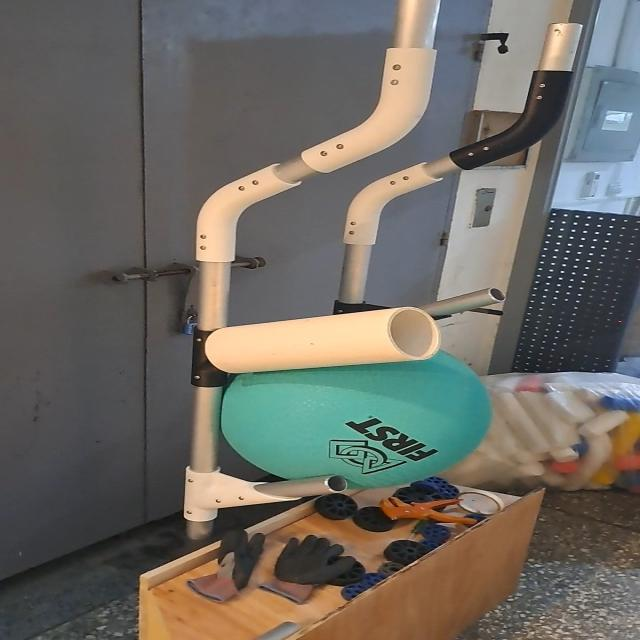ALGAE: (218, 346, 497, 492)
CORAL: (199, 306, 443, 376)
